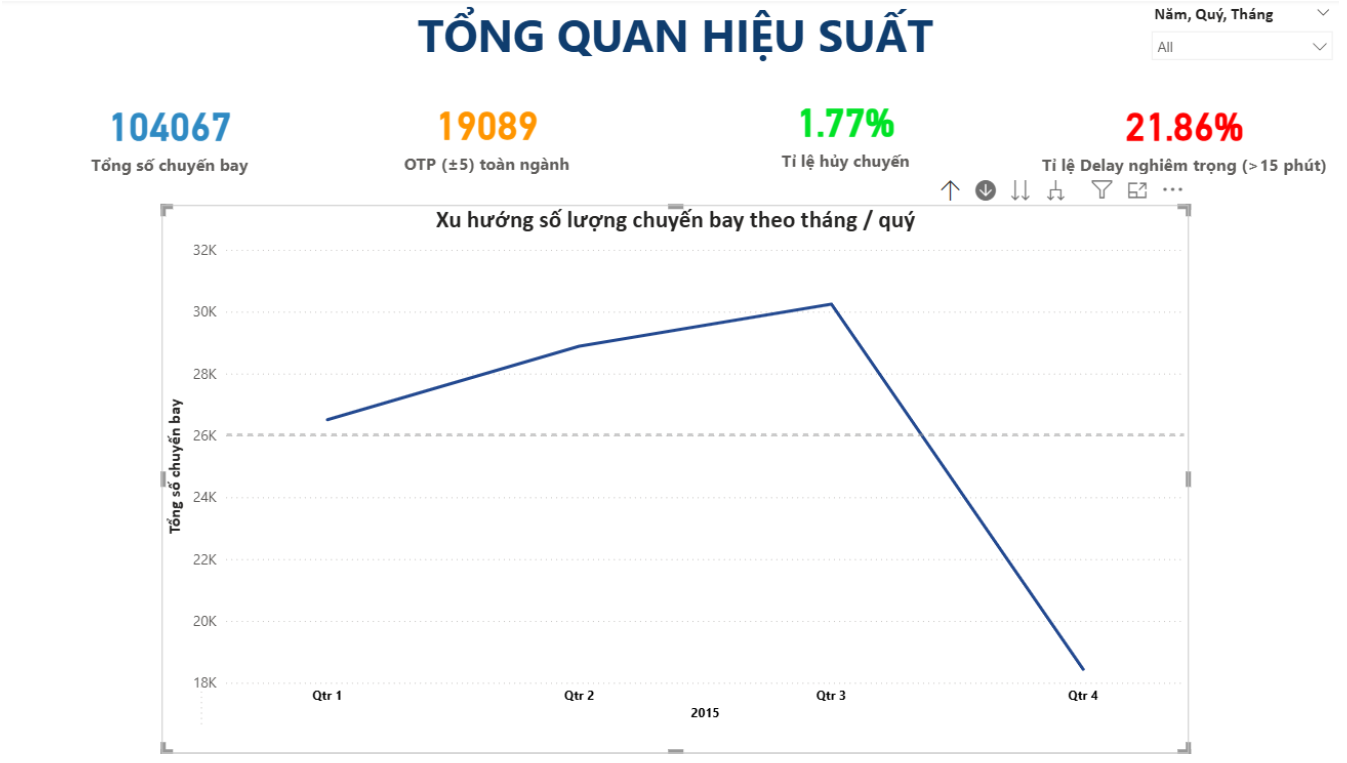

What the dashboard file says about the page in this screenshot:
{"tool":"powerbi","page":{"name":"QL: Tổng quan Hiệu suất","canvas":[1280,720],"ordinal":0},"visuals":[{"type":"textbox","box":[381.4,0,522.9,68.6],"z":0},{"type":"slicer","fields":{"Values":["Dim_Date.Year","Dim_Date.Quarter","Dim_Date.Month"]},"box":[1086.9,0,193.4,82.7],"z":1000},{"type":"card","fields":{"Values":["_Measures.Total Flights"]},"box":[12.9,82.9,294.3,92.9],"z":3000},{"type":"card","fields":{"Values":["_Measures.Cancellation Rate %"]},"box":[670,81.4,271.4,88.6],"z":4000},{"type":"card","fields":{"Values":["_Measures.Delay Rate (>15) %"]},"box":[978.6,85.7,301.4,88.6],"z":5000},{"type":"lineChart","title":"Xu hướng số lượng chuyến bay theo tháng / quý","fields":{"Y":["_Measures.Total Flights","select"],"Category":["Dim_Date.FullDate.Variation.Date Hierarchy.Year","Dim_Date.FullDate.Variation.Date Hierarchy.Quarter","Dim_Date.FullDate.Variation.Date Hierarchy.Month","Dim_Date.FullDate.Variation.Date Hierarchy.Day"]},"box":[152.9,196.9,980.7,523.4],"z":6000},{"type":"card","fields":{"Values":["_Measures.Flights Within ±5 Mins"]},"box":[307.1,85.7,312.9,87.1],"z":7000}]}

Visuals, with their boxes in screenshot pixels (x1, y1, x2, y2), scaled from the page's 1280x720 canvas onto the 1347x763 screenshot:
textbox: box(401, 0, 952, 73)
slicer - Dim_Date.Year x Dim_Date.Quarter: box(1144, 0, 1346, 88)
card - _Measures.Total Flights: box(14, 88, 323, 186)
card - _Measures.Cancellation Rate %: box(705, 86, 991, 180)
card - _Measures.Delay Rate (>15) %: box(1030, 91, 1346, 185)
"Xu hướng số lượng chuyến bay theo tháng / quý" lineChart: box(161, 209, 1193, 762)
card - _Measures.Flights Within ±5 Mins: box(323, 91, 652, 183)
